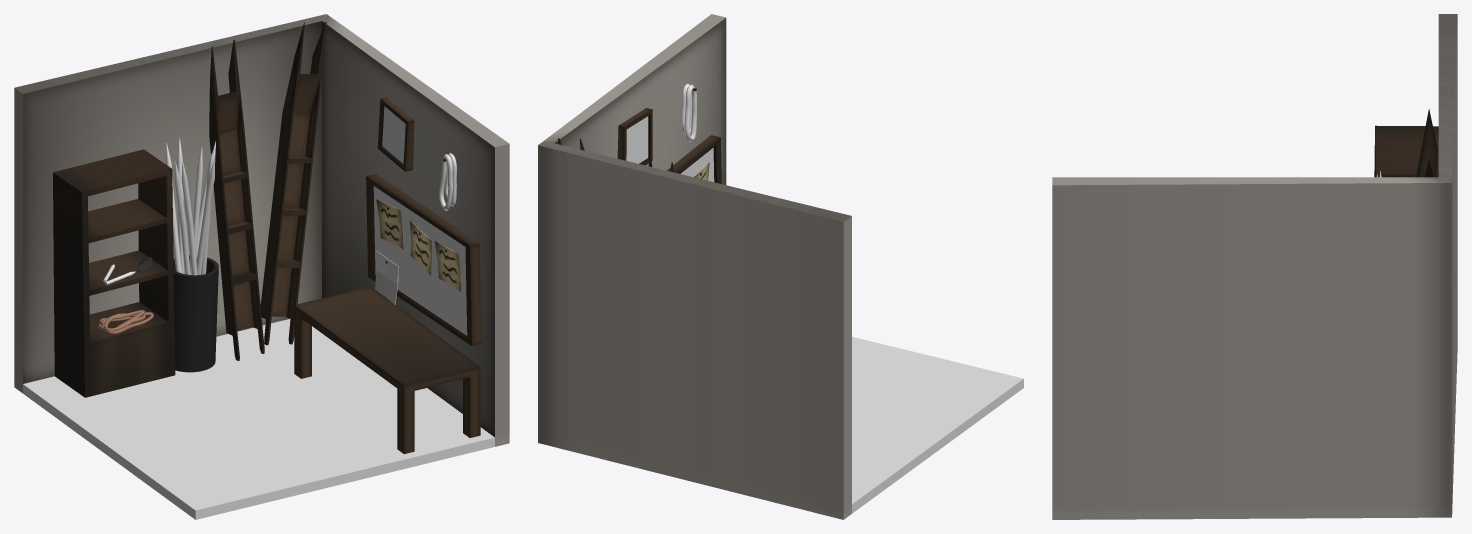
File: room.fbx
3 views of the same model, side by side, from view 1: azimuth 30°, elevation 25°; view 2: azimuth 150°, elevation 25°; view 3: azimuth 270°, elevation 25° (orthographic). The views are drawn at different scales.
Visible parts, largest first — view 1: room, shelf, table, ski 2, ski 1, board, spear can, spear, picture, note 2, note 1, note 3.001 (+3 smaller); view 2: room, picture, board, lai; view 3: room, shelf, ski 1.
Boxes of the visible parts, bbox=[...] form: room: bbox=[14, 14, 509, 519]; shelf: bbox=[53, 149, 175, 397]; table: bbox=[294, 286, 480, 454]; ski 2: bbox=[260, 22, 326, 345]; ski 1: bbox=[209, 40, 264, 360]; board: bbox=[366, 174, 481, 346]; spear can: bbox=[173, 255, 218, 372]; spear: bbox=[166, 137, 215, 275]; picture: bbox=[377, 97, 414, 171]; note 2: bbox=[376, 199, 403, 249]; note 1: bbox=[375, 251, 398, 304]; note 3.001: bbox=[434, 241, 461, 291]; room: bbox=[538, 14, 1023, 519]; picture: bbox=[617, 108, 652, 165]; board: bbox=[667, 135, 721, 183]; lai: bbox=[684, 84, 696, 141]; room: bbox=[1052, 14, 1457, 519]; shelf: bbox=[1374, 125, 1438, 177]; ski 1: bbox=[1416, 109, 1437, 177].
Size of the model in its own units: 210 by 196 by 210.
13 materials, 3 textured.
